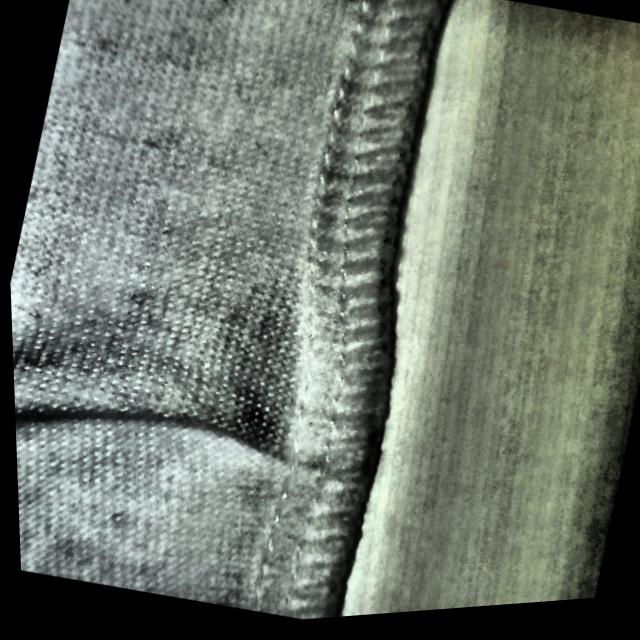seam: (9, 293, 398, 554)
